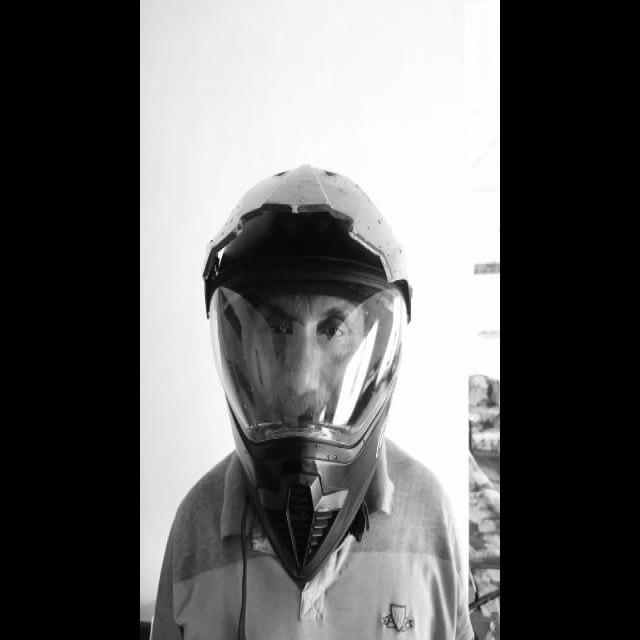5_casco: (202, 162, 414, 582)
